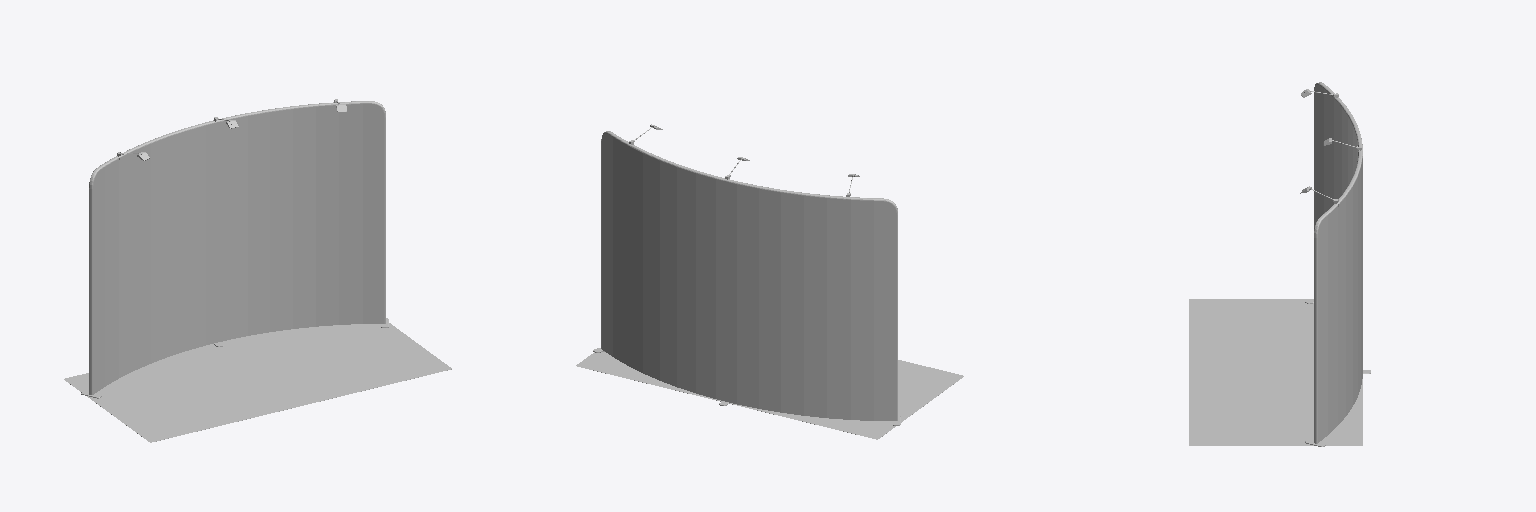
The model's file is tension fabric booth model-2 10'x5' (curved wall) (3DM002) READY.obj.
3 views of the same model, side by side, from view 1: azimuth 30°, elevation 25°; view 2: azimuth 150°, elevation 25°; view 3: azimuth 270°, elevation 25° (orthographic).
Parts seen in each view (by area): view 1: 3DM002___curved_wall_front_side, 3DM002___floor_carpet, 3DM002___curved_wall; view 2: 3DM002___curved_wall_back_side, 3DM002___floor_carpet, 3DM002___curved_wall; view 3: 3DM002___floor_carpet, 3DM002___curved_wall_back_side, 3DM002___curved_wall_front_side, 3DM002___curved_wall.
Boxes of the visible parts, x1,y1,x2,y2 form: 3DM002___curved_wall_front_side: [93, 104, 383, 394]; 3DM002___floor_carpet: [64, 323, 451, 442]; 3DM002___curved_wall: [89, 101, 385, 394]; 3DM002___curved_wall_back_side: [602, 133, 896, 420]; 3DM002___floor_carpet: [576, 352, 963, 439]; 3DM002___curved_wall: [601, 131, 897, 420]; 3DM002___floor_carpet: [1189, 299, 1362, 445]; 3DM002___curved_wall_back_side: [1318, 159, 1362, 442]; 3DM002___curved_wall_front_side: [1314, 85, 1357, 227]; 3DM002___curved_wall: [1314, 82, 1362, 443].
Size of the model in its own units: 122 by 88.41 by 62.87.